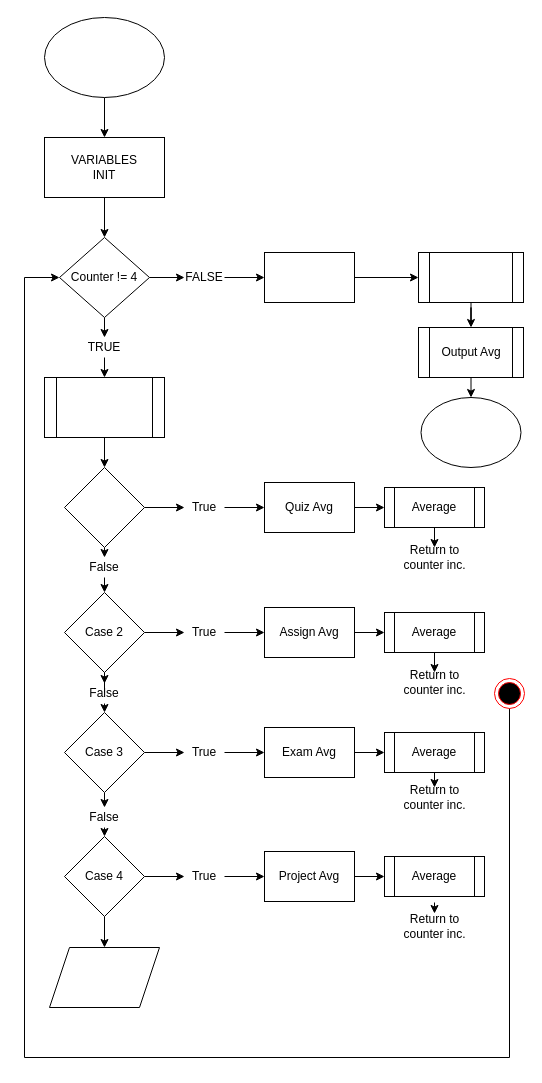
Image size: 542x1083. Some labels were removed from this diagram. Here are the shapes that lost their labels. From the top down, the box of each, then its label:
(44, 16, 164, 98): START
(264, 252, 354, 302): Current Grade
(418, 252, 524, 302): Weighted Avg
(44, 376, 164, 438): Print Prompt
(420, 396, 521, 468): END
(64, 466, 144, 548): Case 1
(48, 946, 160, 1008): Counter Increment
